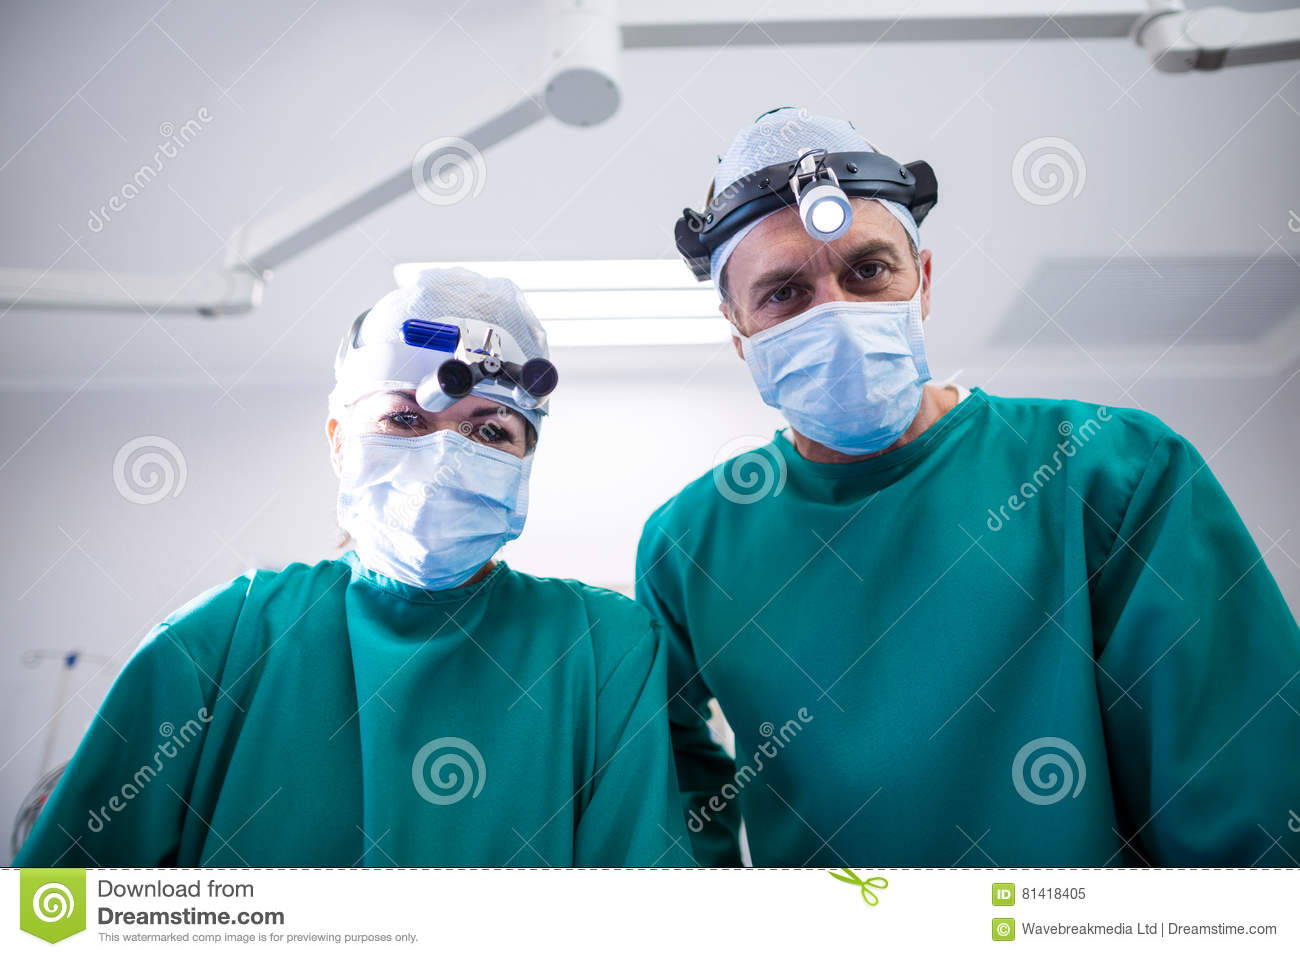mask: (353, 421, 525, 594), (764, 311, 953, 451)
